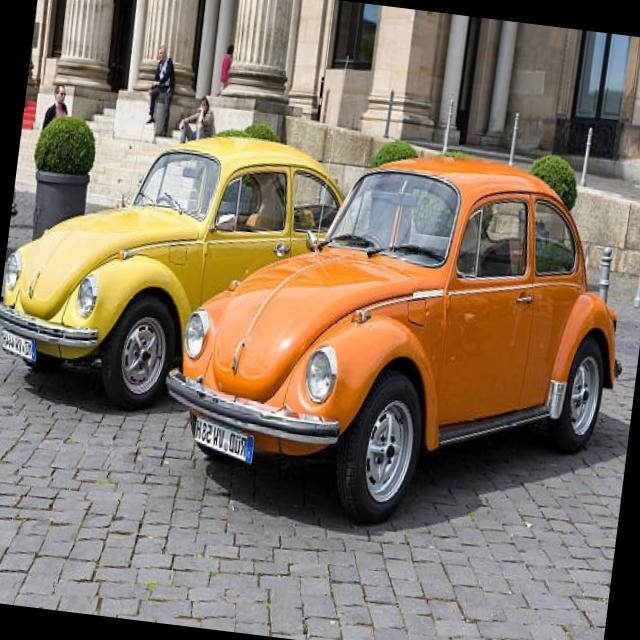car: (162, 128, 640, 533)
